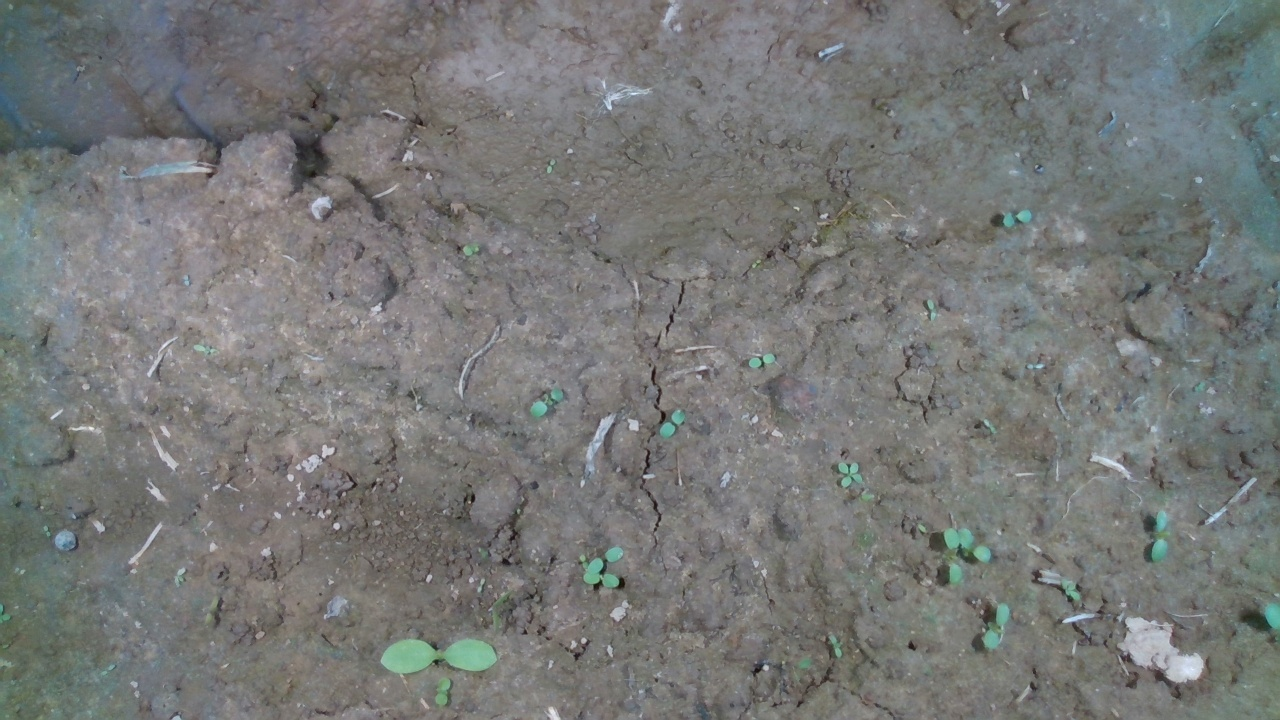weed: (528, 384, 566, 421), (1149, 506, 1170, 564), (834, 457, 864, 491), (657, 404, 683, 441), (743, 348, 776, 373), (432, 674, 454, 710)
